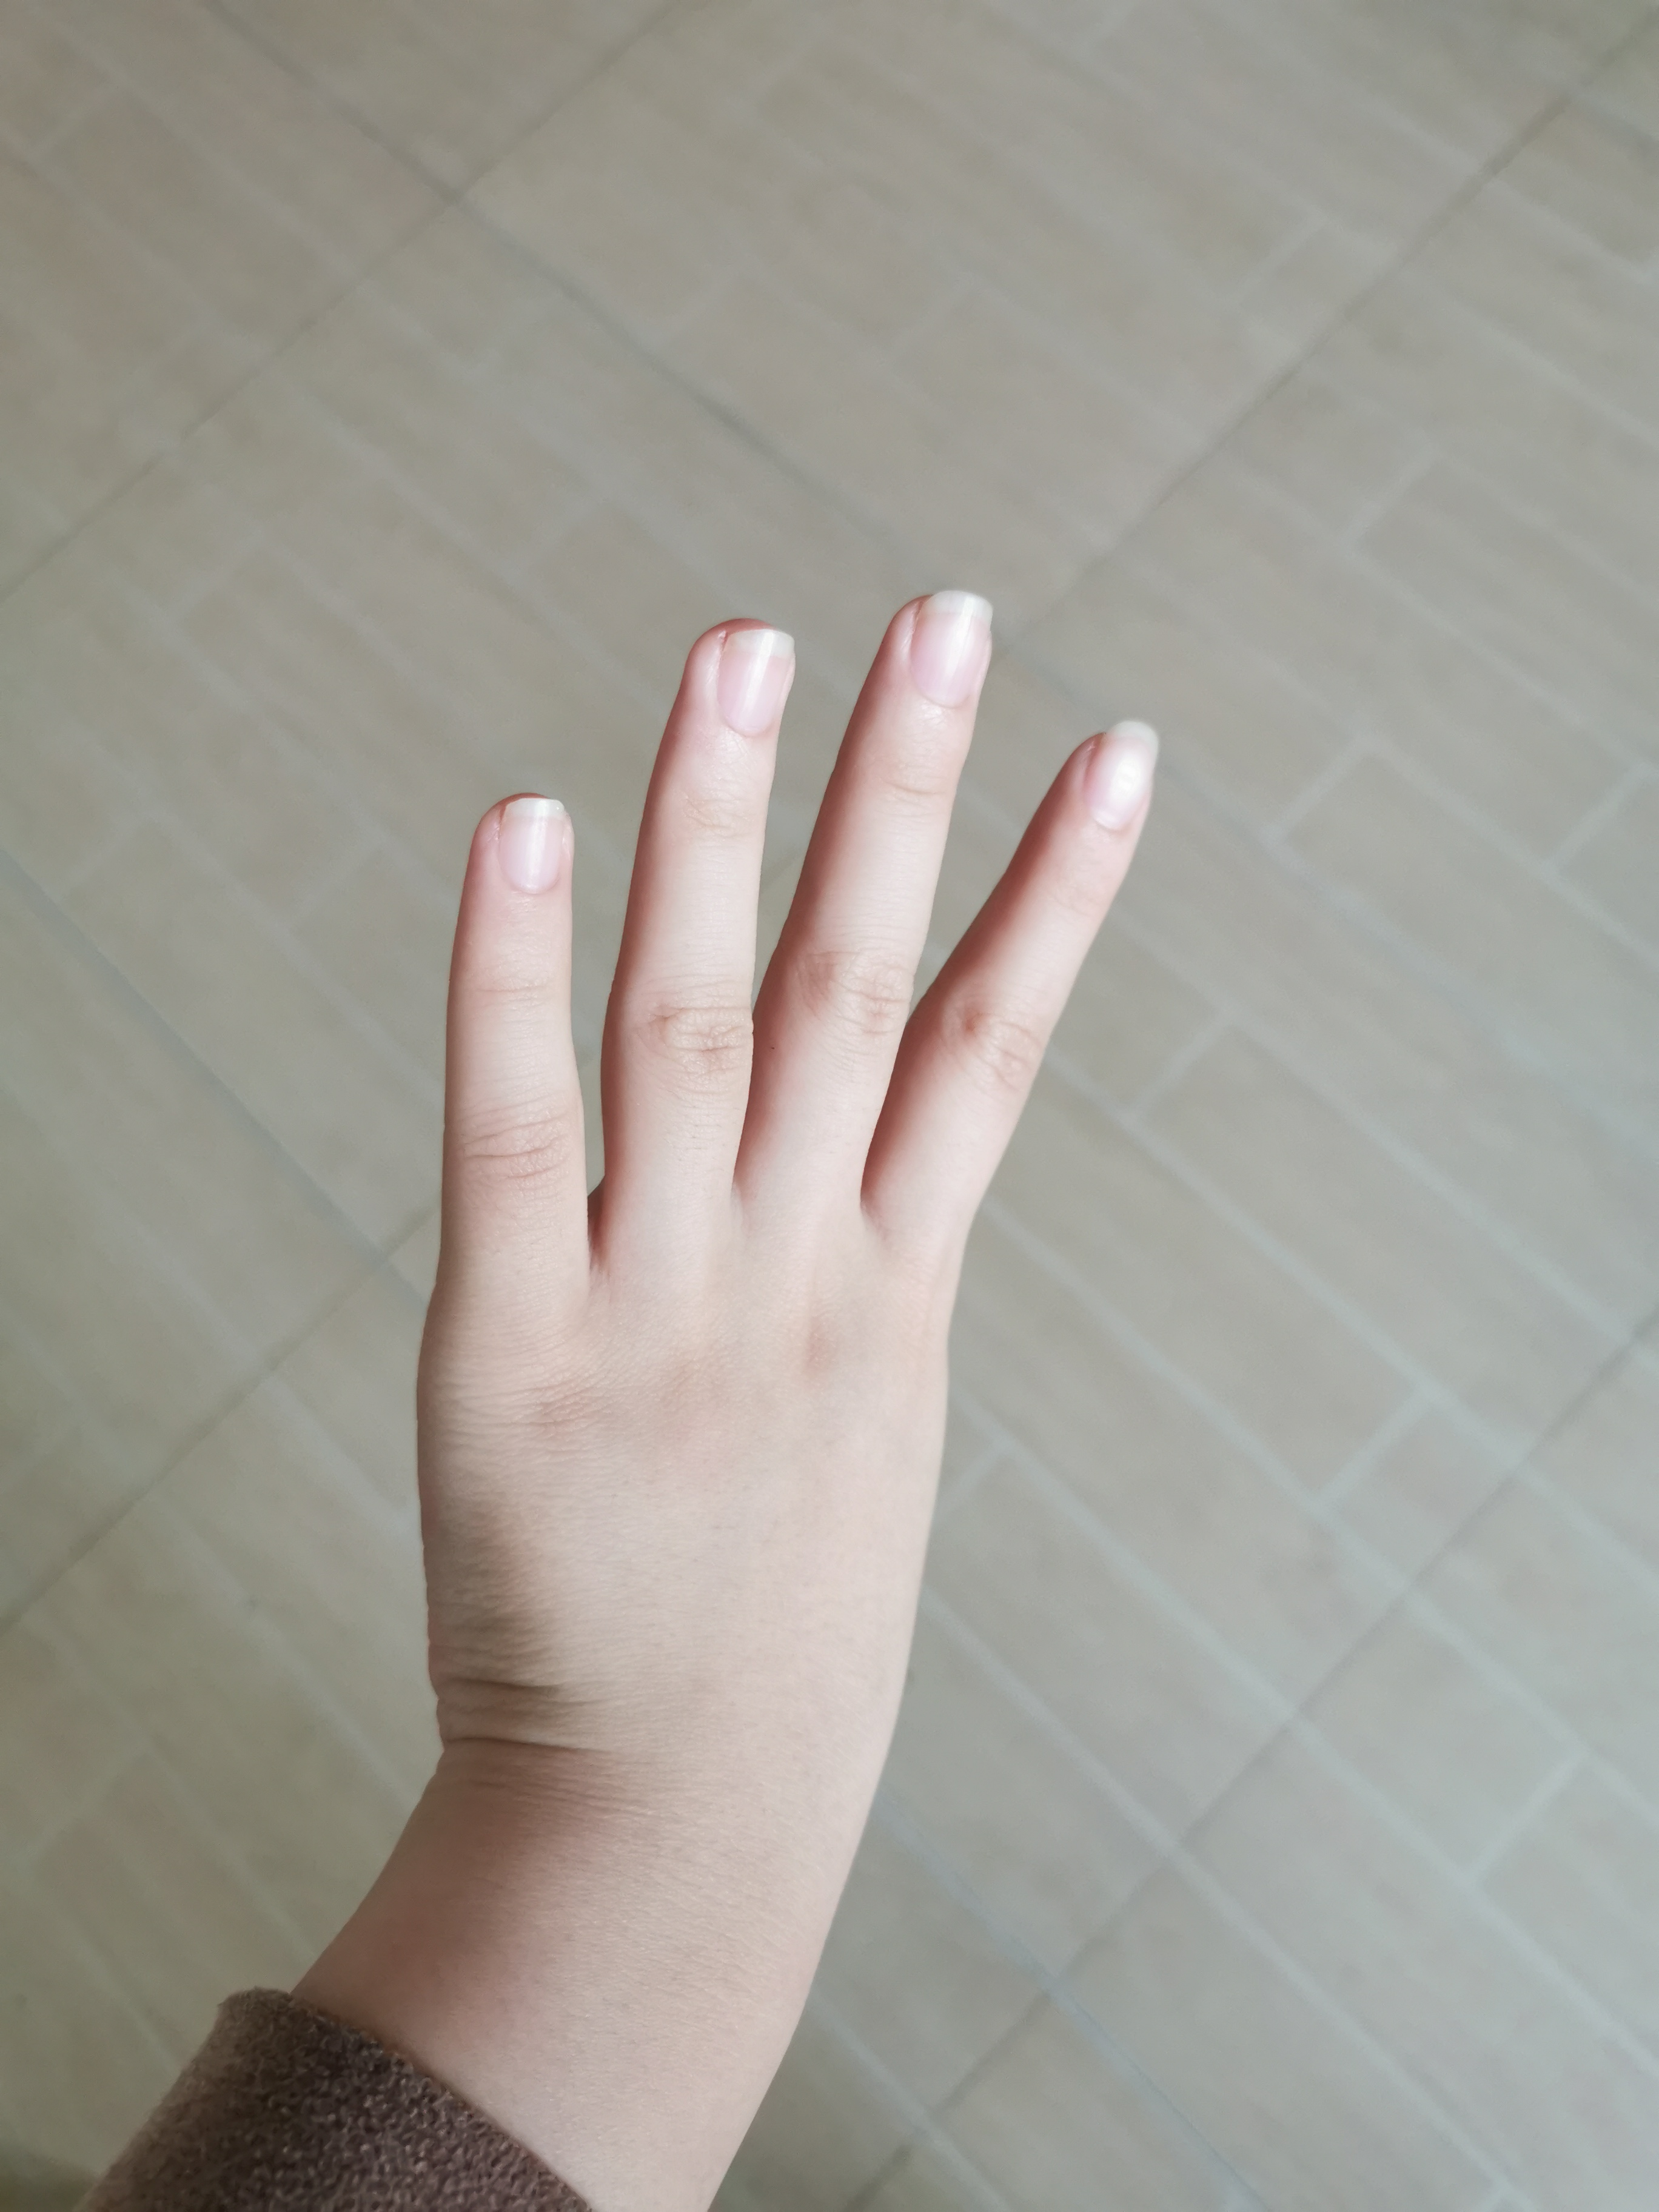right: (373, 577, 1190, 1761)
